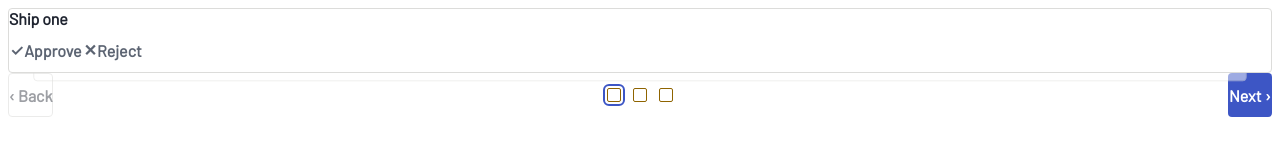
Test case: FocusDeck navigation › advances to the next step on Next
Click the button "Next ›". click: (1250, 95)
box: [1228, 73, 1272, 117]
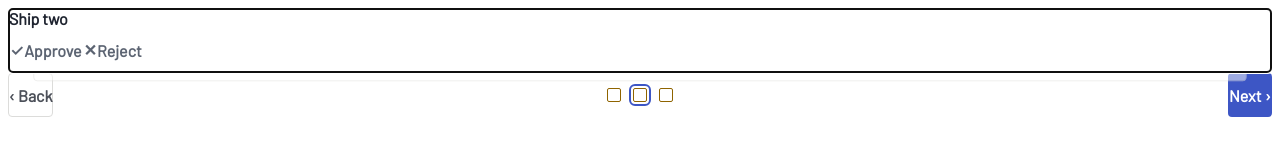
Now the heading with class "focus-question" reads "Ship two", box [9, 9, 68, 28]
